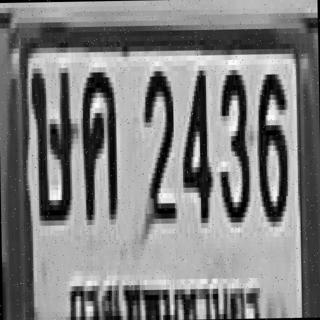A04: (80, 67, 116, 220)
A39: (30, 63, 72, 221)
N02: (140, 66, 174, 219)
N03: (216, 64, 248, 218)
N04: (178, 65, 210, 218)
N06: (256, 69, 286, 216)
